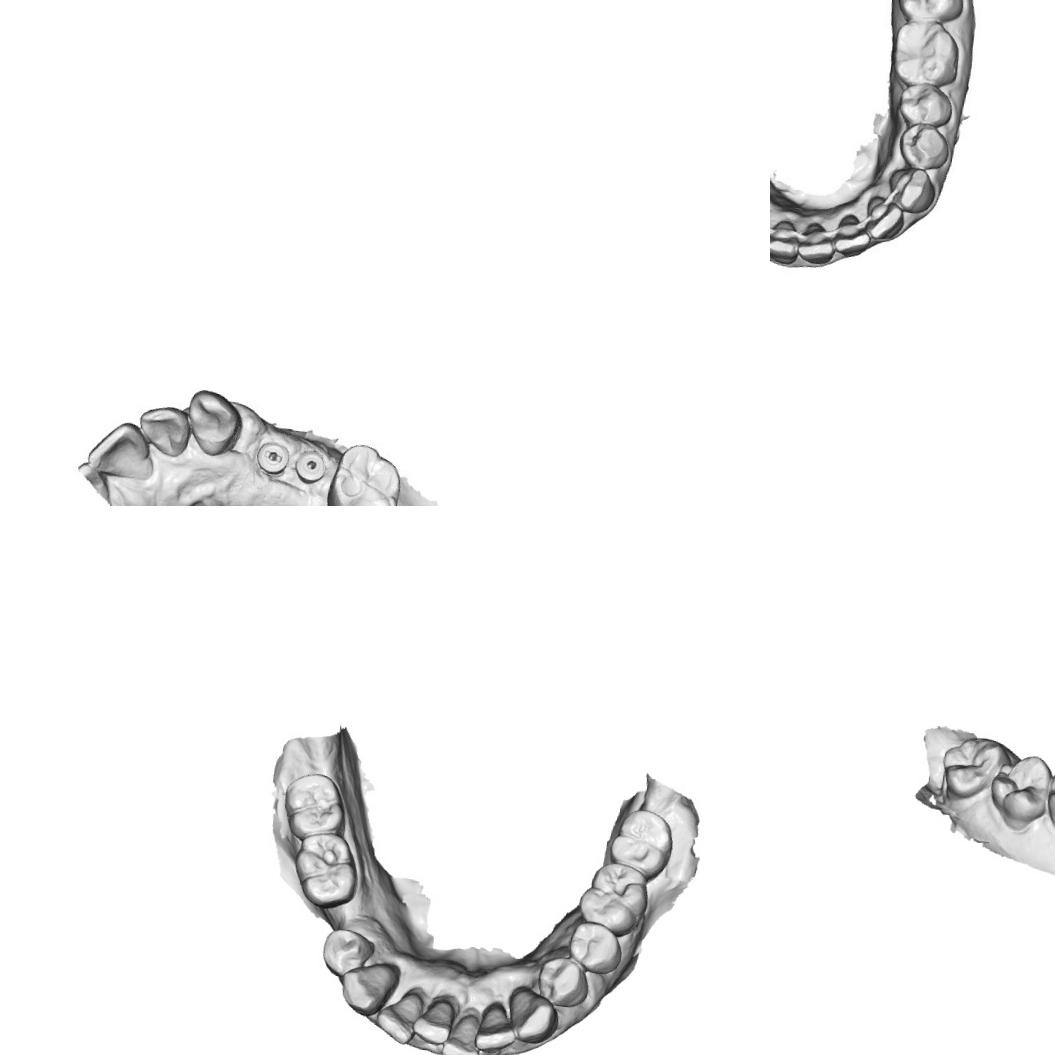canine: (182, 386, 242, 460), (336, 956, 402, 1022), (501, 984, 562, 1048), (882, 162, 938, 216)
implant: (293, 446, 330, 488)
implant_minus: (254, 439, 292, 474)
incisor: (82, 417, 160, 483), (134, 402, 192, 462), (372, 986, 426, 1048), (471, 1000, 520, 1055), (410, 995, 458, 1048), (438, 1010, 485, 1055), (833, 217, 874, 260), (770, 222, 803, 269), (864, 199, 902, 238), (804, 224, 836, 260)
molar: (287, 824, 364, 912), (574, 858, 653, 941), (983, 749, 1055, 836), (278, 769, 352, 846), (319, 439, 404, 506), (936, 732, 1015, 804), (606, 804, 678, 878), (892, 21, 961, 84), (897, 0, 964, 22)
premolar: (565, 918, 626, 977), (533, 952, 593, 1010), (318, 925, 376, 980), (900, 81, 954, 132), (902, 122, 955, 171)
